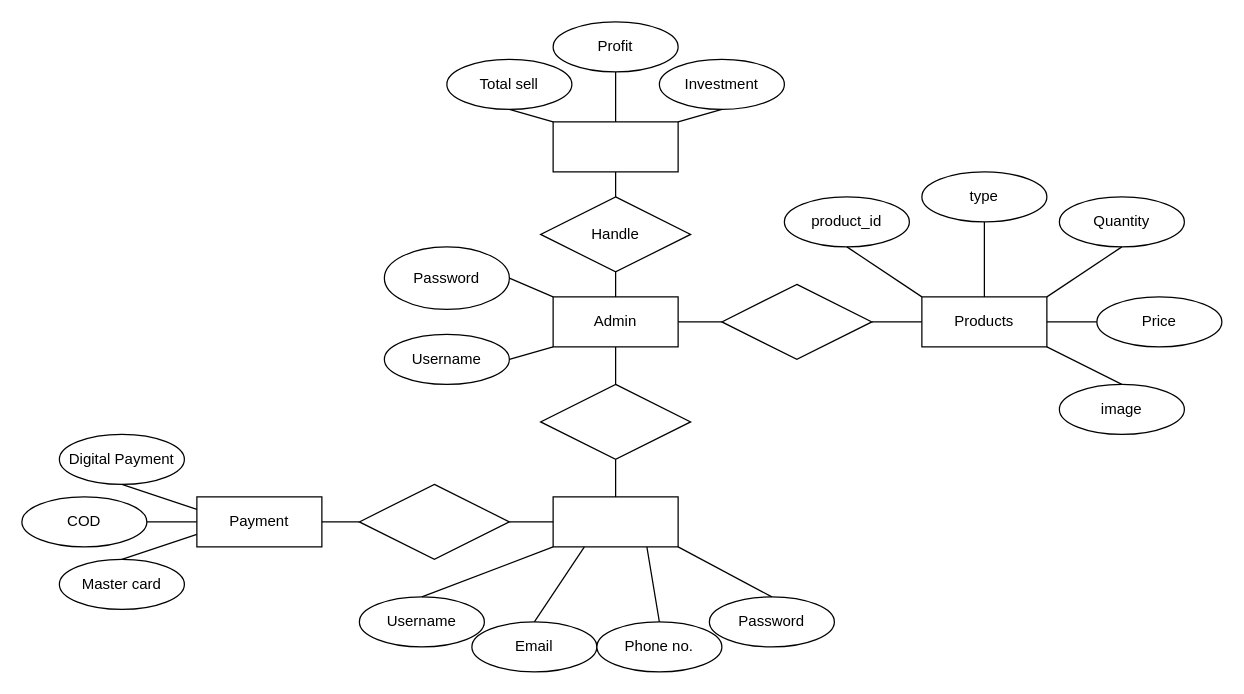
Some shapes in this 1244 by 694 pixel diagram are drawn without their labels. The centre of each missing label's shape, as x and y in pixels:
"Contain" belongs at point 615,421.
"Control" belongs at point 796,321.
"Customer" belongs at point 615,521.
"Finance" belongs at point 615,146.
"Pay Through" belongs at point 433,521.
